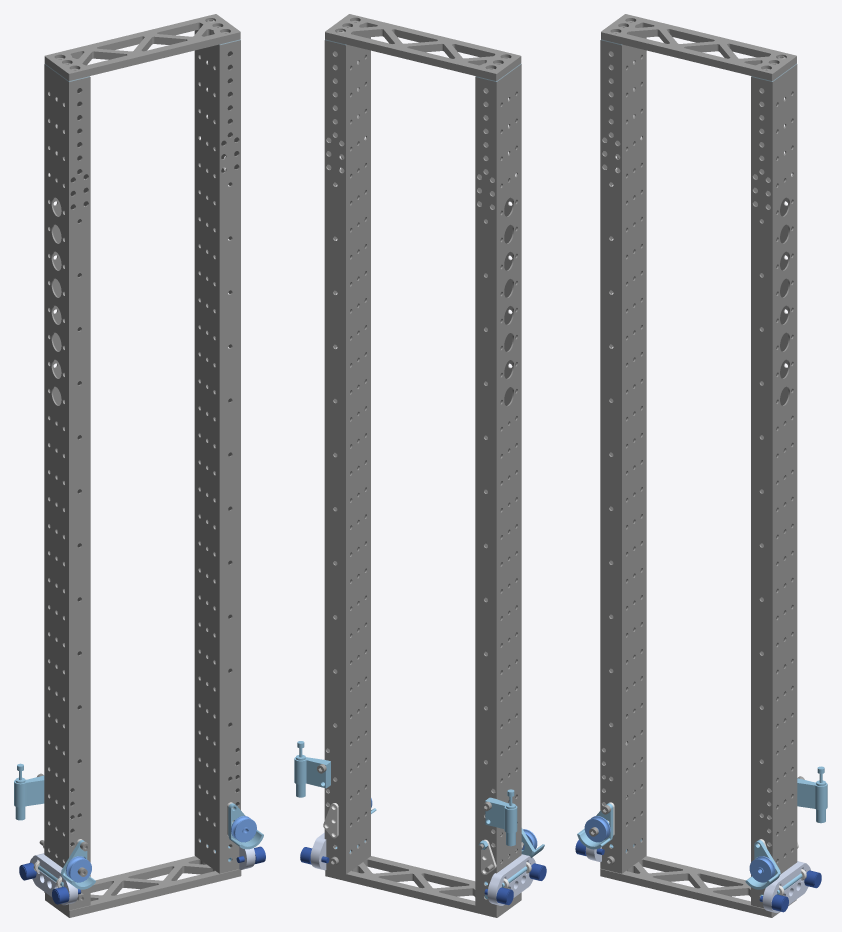
3 renders of one model, left to right at view 1: azimuth 30°, elevation 25°; view 2: azimuth 150°, elevation 25°; view 3: azimuth 330°, elevation 25°, orthographic.
Visible parts, largest first — view 1: 2nd Stage Left Tube (×2), Part 3 (×2), elevator component bearing block, Part 1, Part 4, Bearing_Pulley-M5-25-8.5; view 2: 2nd Stage Left Tube (×2), Part 3 (×2), Part 1 (×2), elevator component bearing block; view 3: 2nd Stage Left Tube (×2), Part 3 (×3), elevator component bearing block, Part 1, Part 4, Bearing_Pulley-M5-25-8.5.
Boxes of the visible parts, x1,y1,x2,y2 form: 2nd Stage Left Tube (×2): [44, 30, 240, 910]; Part 3 (×2): [44, 14, 241, 917]; elevator component bearing block: [30, 853, 77, 905]; Part 1: [14, 775, 44, 807]; Part 4: [228, 803, 263, 849]; Bearing_Pulley-M5-25-8.5: [231, 816, 256, 842]; 2nd Stage Left Tube (×2): [324, 37, 521, 911]; Part 3 (×2): [325, 14, 521, 917]; Part 1 (×2): [294, 757, 517, 833]; elevator component bearing block: [487, 854, 535, 905]; 2nd Stage Left Tube (×2): [600, 37, 797, 908]; Part 3 (×3): [577, 14, 796, 917]; elevator component bearing block: [762, 861, 810, 912]; Part 1: [797, 778, 827, 810]; Part 4: [745, 840, 780, 889]; Bearing_Pulley-M5-25-8.5: [749, 856, 775, 882].
Bounding box in the file's own units: 0.257 × 0.937 × 0.092.
